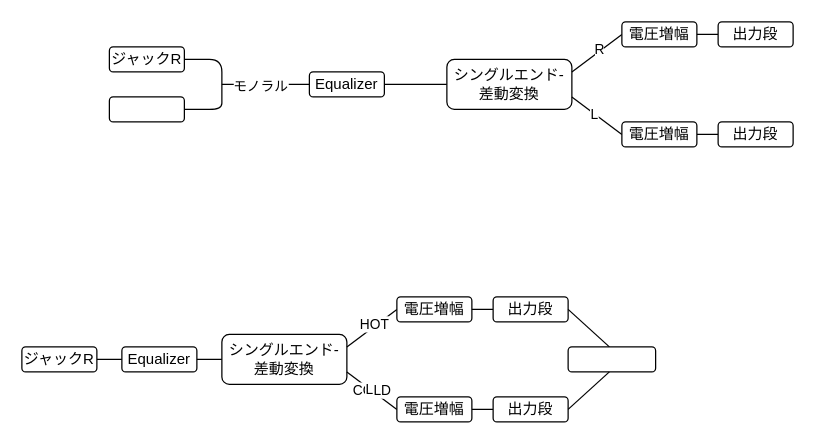
This 815x444 diagram has some shape labels left out. The shapes that lost their labels are listed below. From the top down, each one's centre as x and y in pixels, then its label:
the point at 146,109: ジャックL
the point at 611,359: スピーカー
